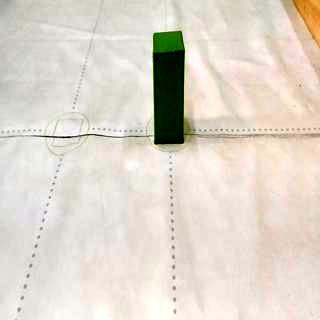greenbox: (152, 31, 185, 145)
